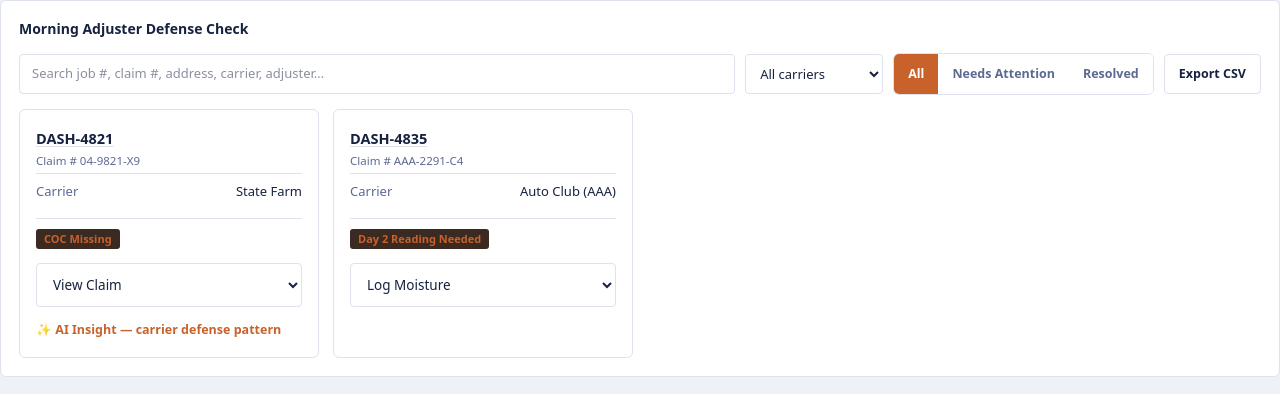
Scenario: AdjusterDefenseView › filters cases by status
// resolve DASH-4821's only chip, so it has no open issues left
Select "✓ Mark Resolved" in the dropdown below "COC Missing" at [169, 285], box [36,263,302,307]
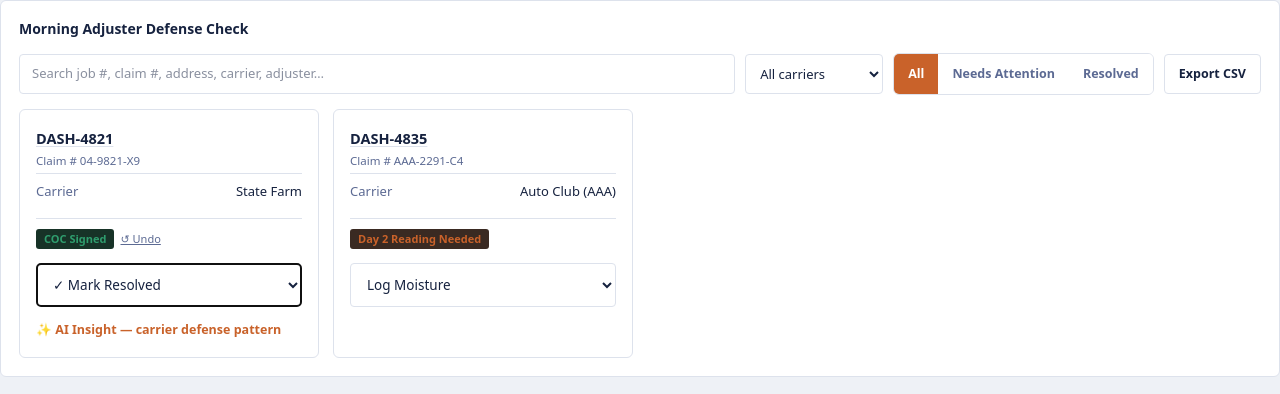
Click the button "Resolved".
click(1111, 74)  # box [1069,54,1153,94]
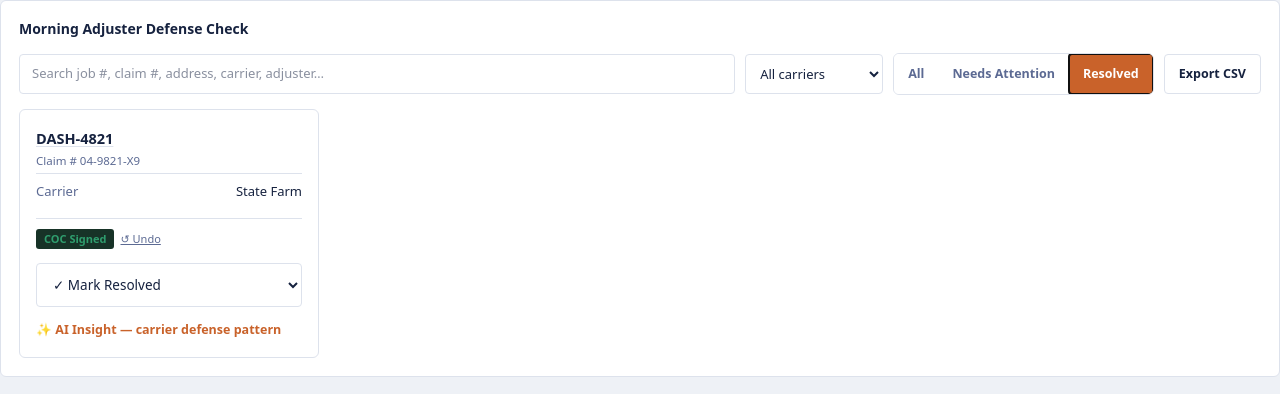
Expected: the button "DASH-4821" is shown, [36,128,113,150]
Expected: the button "DASH-4835" is gone
